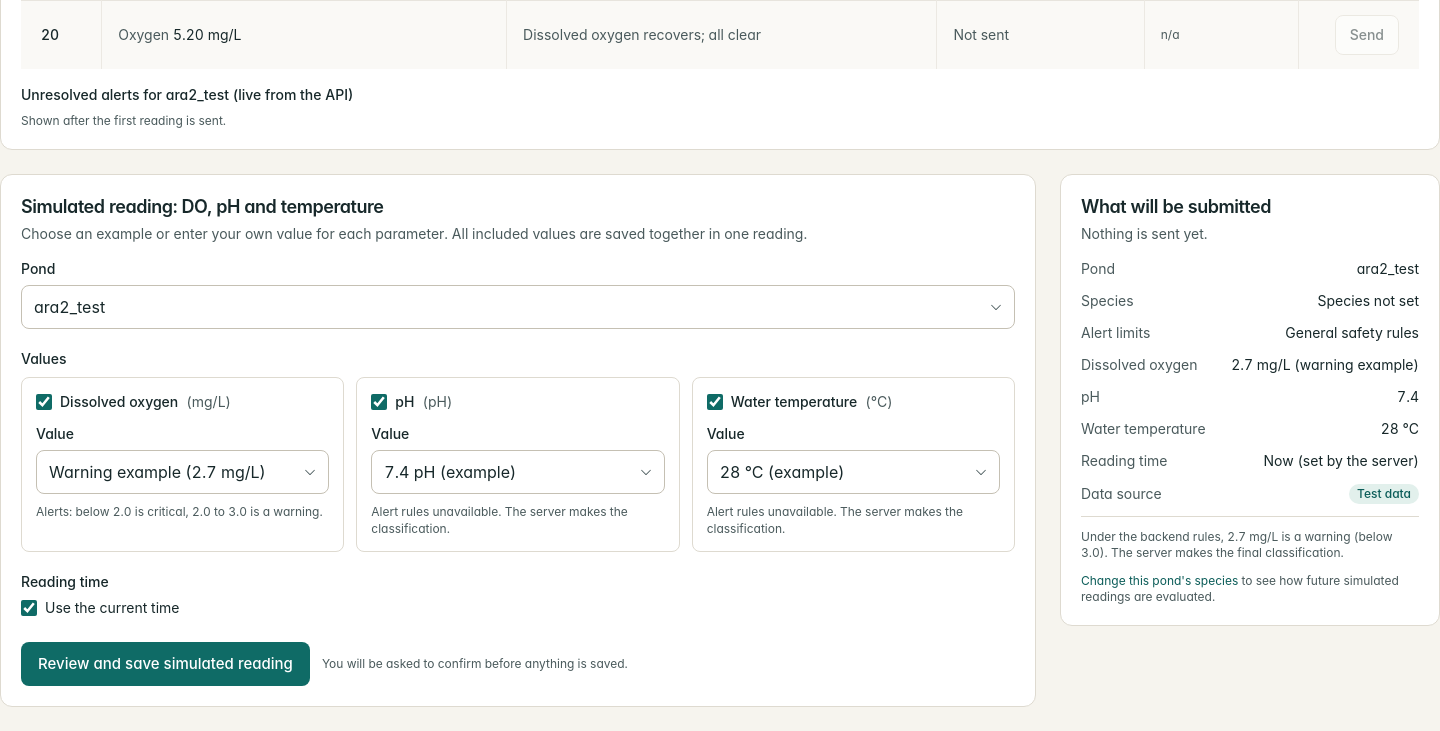
Test case: simulation: one reading, three parameters › rejects out-of-range values in the form and sends nothing
(page scrolled)
Check: the heading "Simulated reading: DO, pH and temperature" is shown, box x1=21 y1=196 x2=384 y2=217
Select "Custom value" in the 2nd dropdown labelled "Value" at (518, 472), box x1=371 y1=450 x2=665 y2=494
(page scrolled)
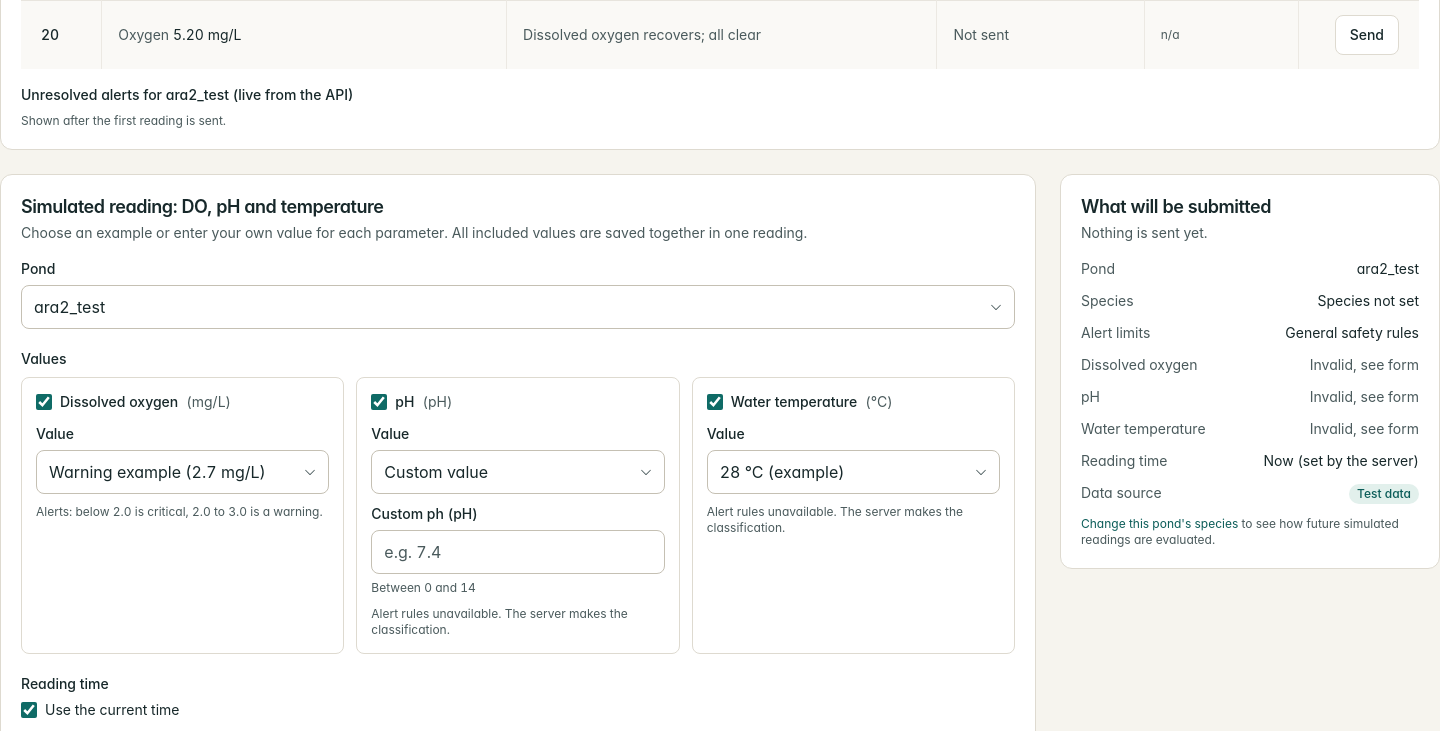
Type "15" into the field labelled "Custom ph (pH)" at (518, 552), box x1=371 y1=530 x2=665 y2=574
(page scrolled)
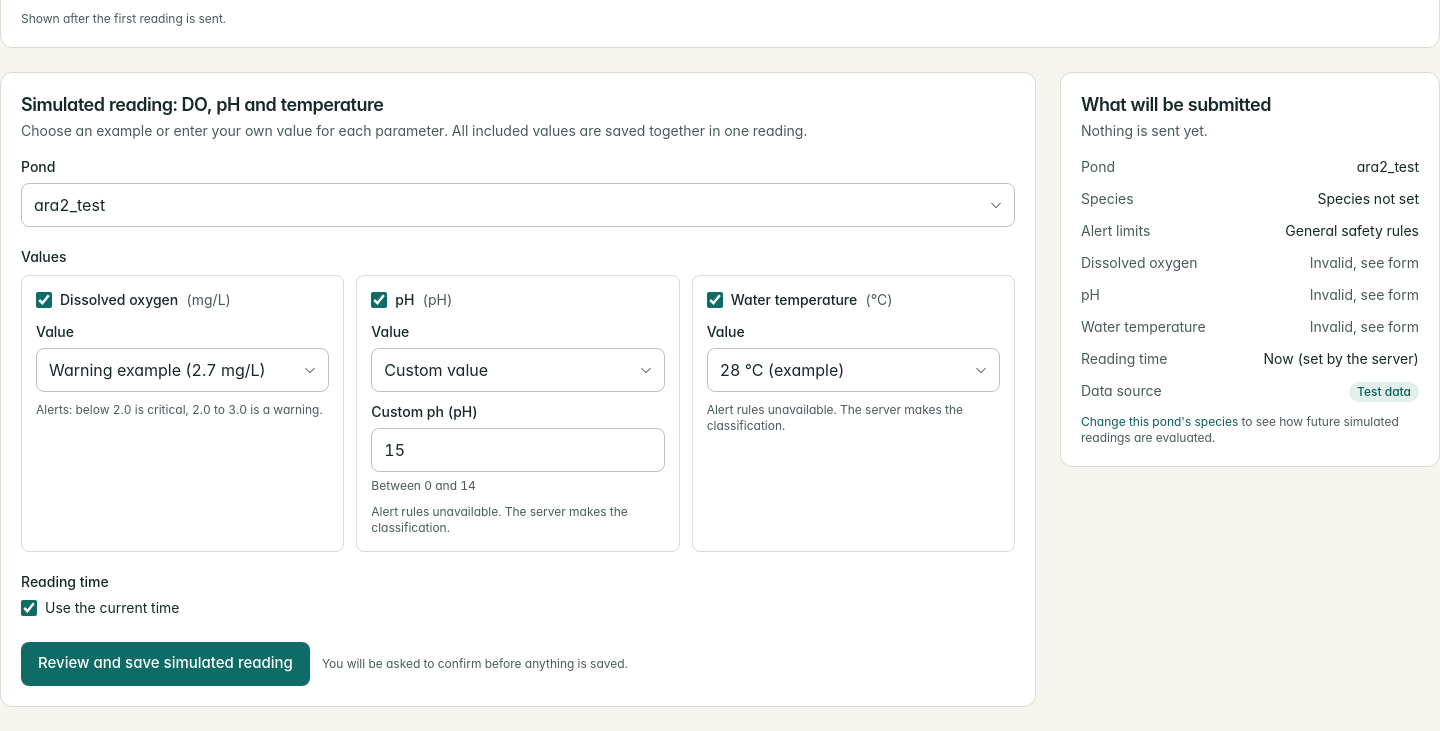
Click the button "Review and save simulated reading" at (165, 664), box x1=21 y1=642 x2=310 y2=686
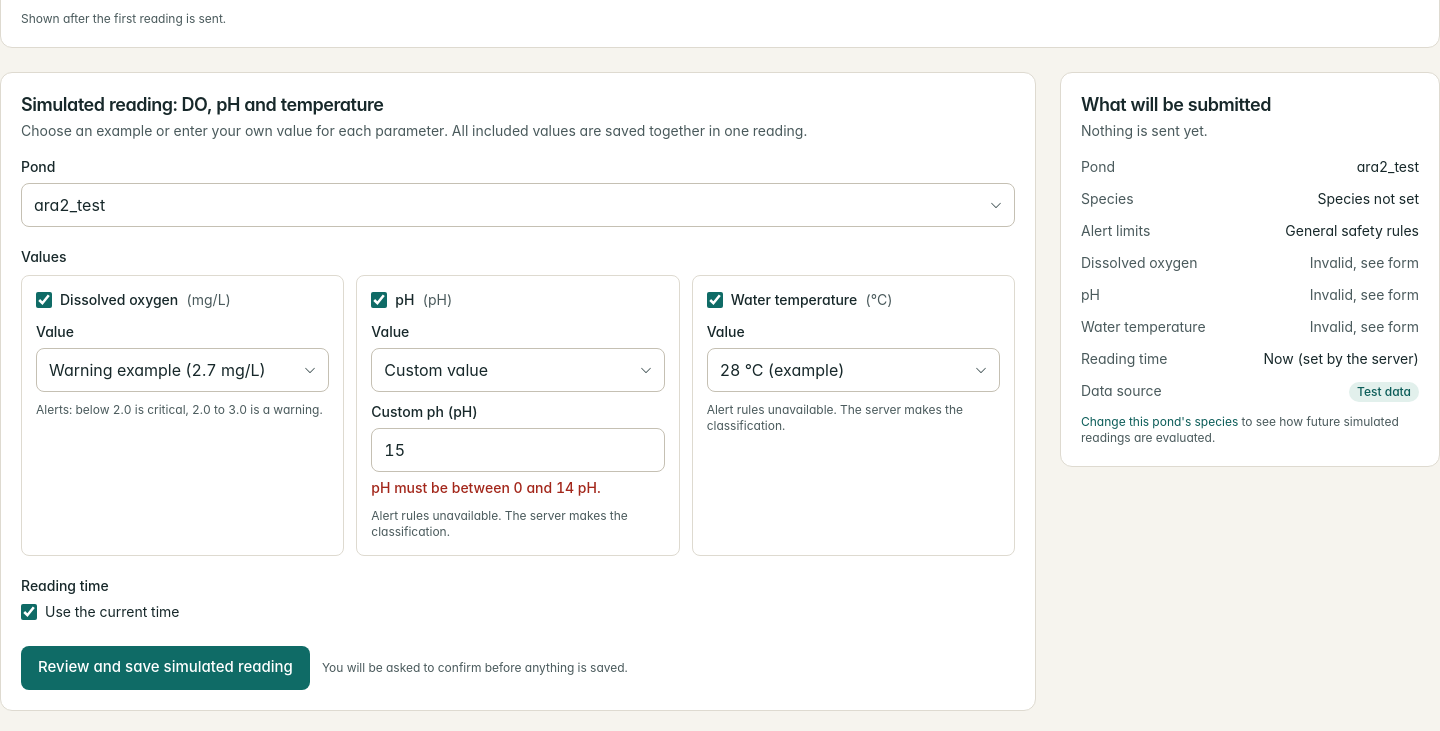
Check: the text "pH must be between 0 and 14 pH." is shown, box x1=371 y1=478 x2=601 y2=496
Replace the text in the field labelled "Custom ph (pH)" with "7.4" at (518, 450), box x1=371 y1=428 x2=665 y2=472
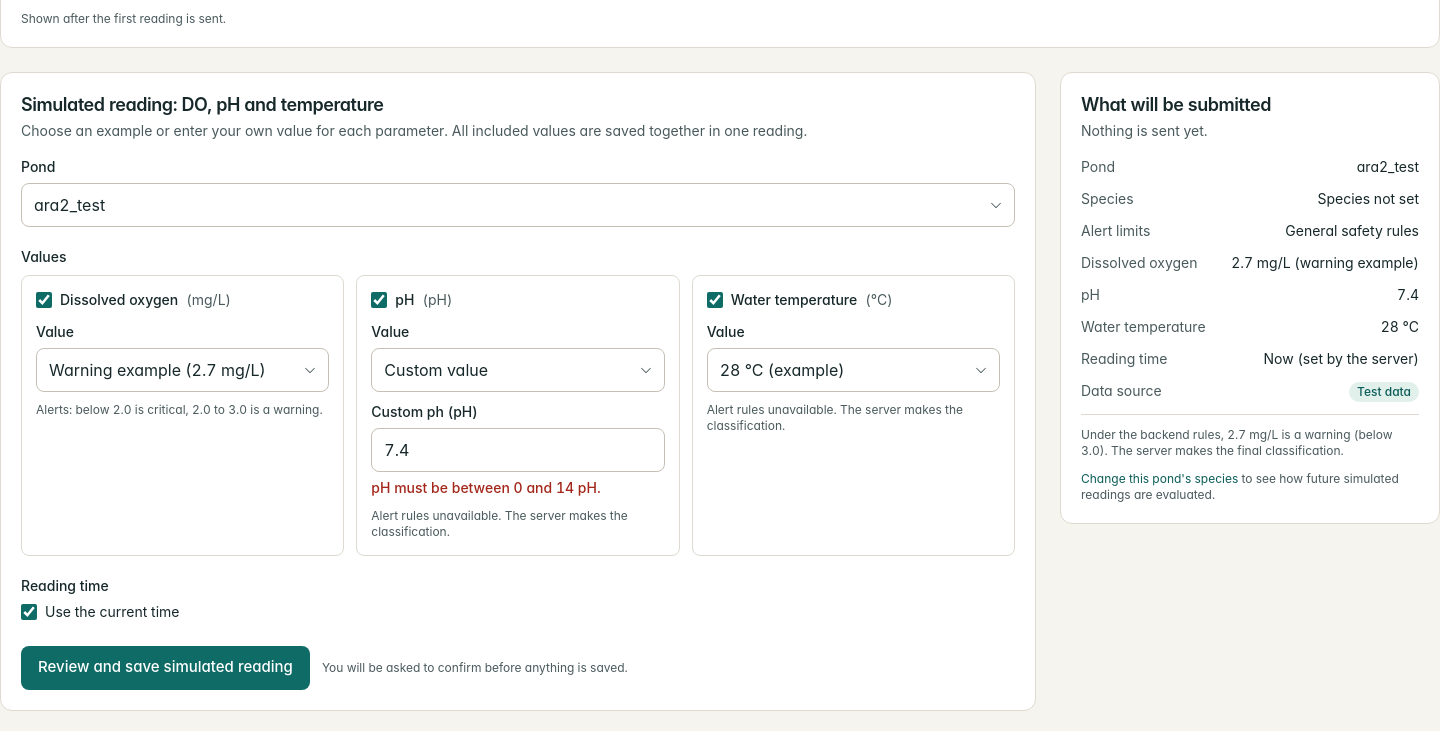
Select "Custom value" in the 3rd dropdown labelled "Value" at (853, 370), box x1=707 y1=348 x2=1000 y2=392
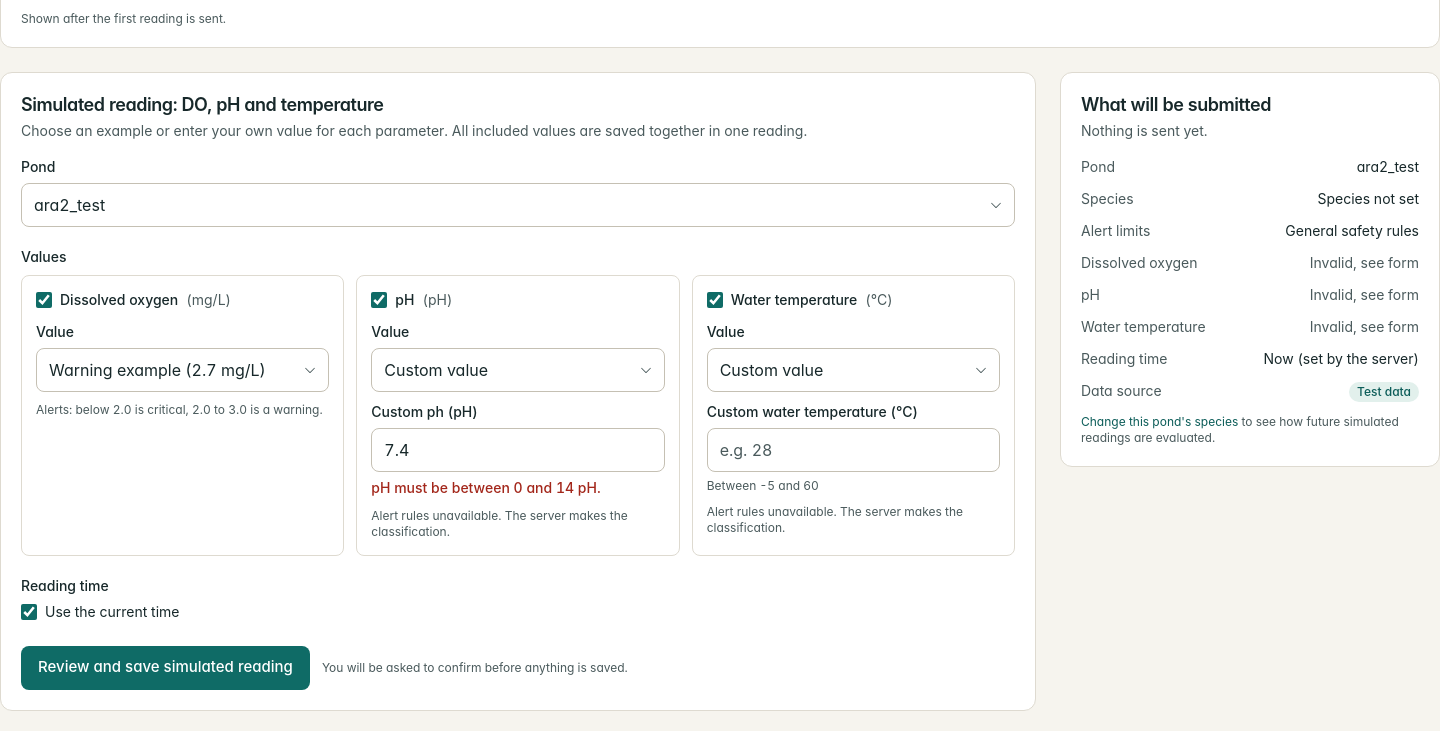
Type "99" into the field labelled "Custom water temperature (°C)" at (853, 450), box x1=707 y1=428 x2=1000 y2=472
Click the button "Review and save simulated reading" at (165, 668), box x1=21 y1=646 x2=310 y2=690
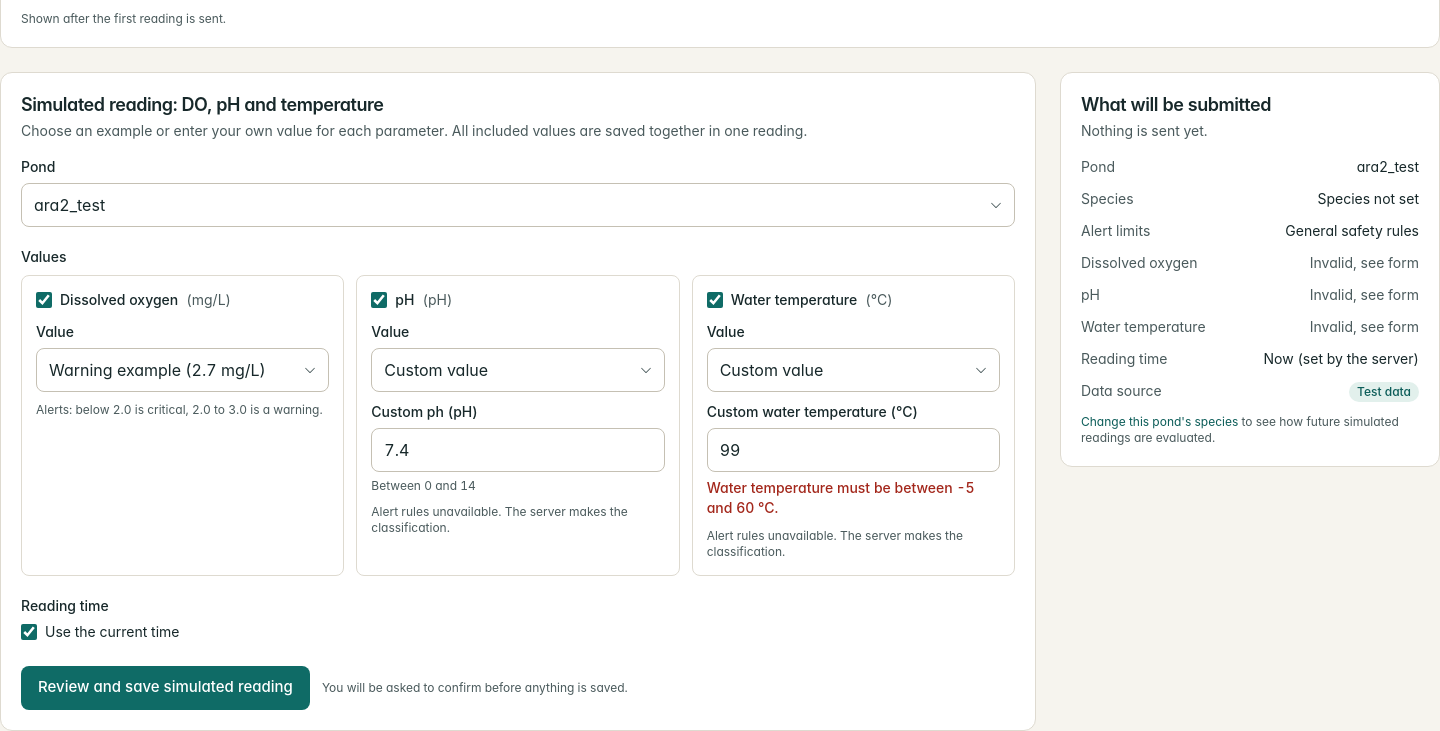
Check: the text "Water temperature must be between -5 and 60 °C." is shown, box x1=707 y1=478 x2=1000 y2=518
